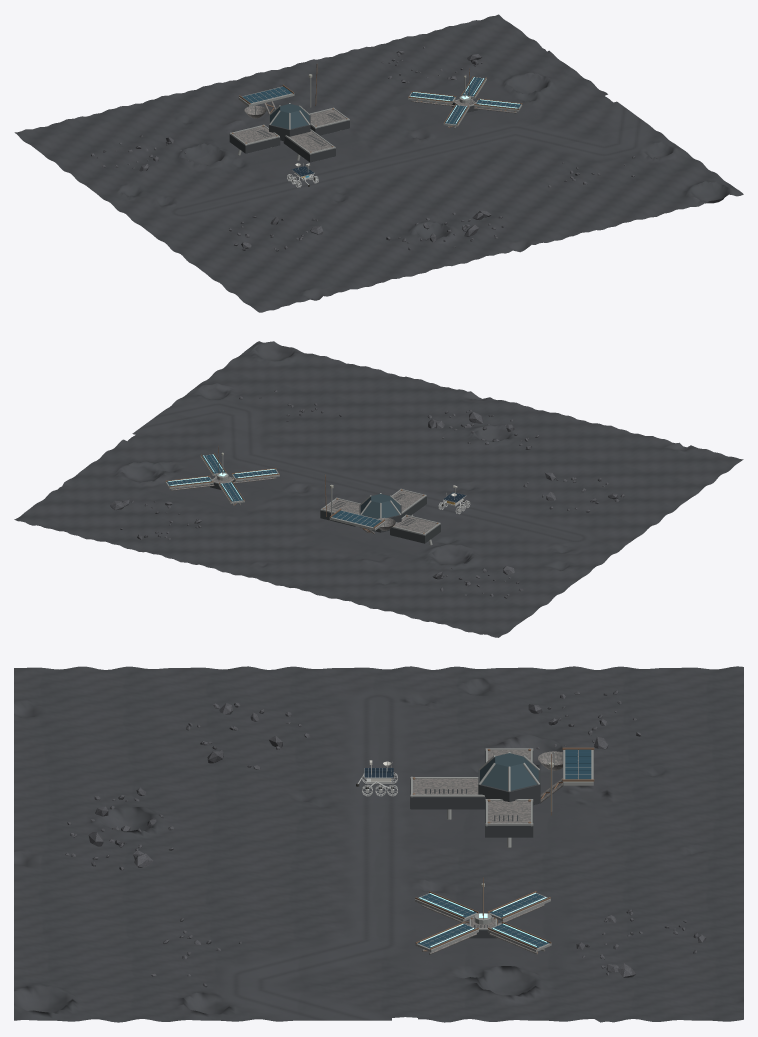
The picture shows the model from 3 angles, top to bottom: view 1: azimuth 30°, elevation 25°; view 2: azimuth 150°, elevation 25°; view 3: azimuth 270°, elevation 25°; orthographic projection. The views are drawn at different scales.
Parts seen in each view (by area): view 1: Existing terrain · cropped and graded, research-station • editable solid geometry, Fixed array assembly.003 • editable solid geometry, Fixed array assembly.001 • editable solid geometry; view 2: Existing terrain · cropped and graded, research-station • editable solid geometry, Fixed array assembly • editable solid geometry, Fixed array assembly.002 • editable solid geometry; view 3: Existing terrain · cropped and graded, research-station • editable solid geometry, Fixed array assembly • editable solid geometry, Fixed array assembly.003 • editable solid geometry, Fixed array assembly.002 • editable solid geometry, Fixed array assembly.001 • editable solid geometry, Rover body • science instruments, Beacon activation • editable solid geometry.
Part boxes in pixels (left/top/right/bottom): Existing terrain · cropped and graded: left=14, top=14, right=743, bottom=312; research-station • editable solid geometry: left=229, top=64, right=349, bottom=162; Fixed array assembly.003 • editable solid geometry: left=473, top=98, right=522, bottom=113; Fixed array assembly.001 • editable solid geometry: left=408, top=91, right=456, bottom=106; Existing terrain · cropped and graded: left=14, top=341, right=743, bottom=637; research-station • editable solid geometry: left=320, top=474, right=440, bottom=545; Fixed array assembly • editable solid geometry: left=165, top=475, right=214, bottom=490; Fixed array assembly.002 • editable solid geometry: left=231, top=468, right=279, bottom=483; Existing terrain · cropped and graded: left=14, top=666, right=743, bottom=1022; research-station • editable solid geometry: left=410, top=747, right=594, bottom=847; Fixed array assembly • editable solid geometry: left=487, top=921, right=551, bottom=954; Fixed array assembly.003 • editable solid geometry: left=415, top=922, right=478, bottom=954; Fixed array assembly.002 • editable solid geometry: left=415, top=891, right=478, bottom=925; Fixed array assembly.001 • editable solid geometry: left=487, top=891, right=550, bottom=925; Rover body • science instruments: left=356, top=760, right=393, bottom=788; Beacon activation • editable solid geometry: left=419, top=892, right=546, bottom=946.
Bounding box in the file's own units: 32 × 4.26 × 28.
22 materials, 4 textured.
